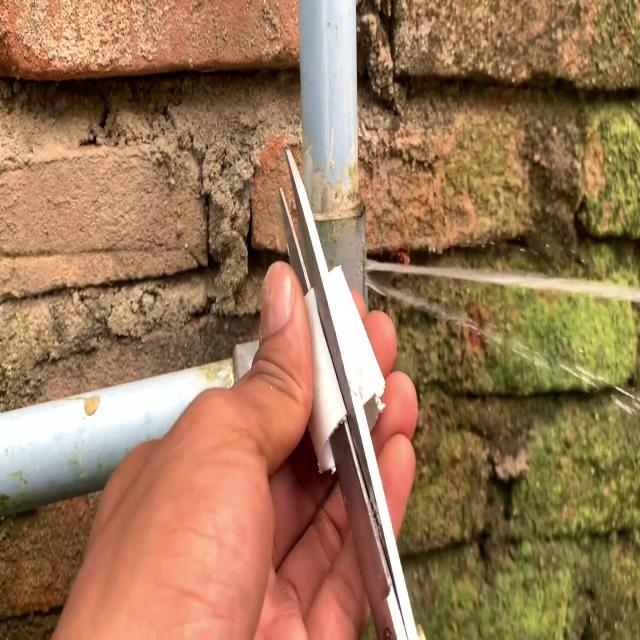leak: (362, 270, 640, 419), (364, 258, 640, 301)
